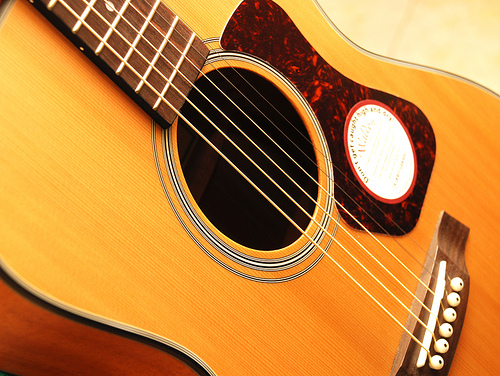guitar: (1, 1, 500, 376)
